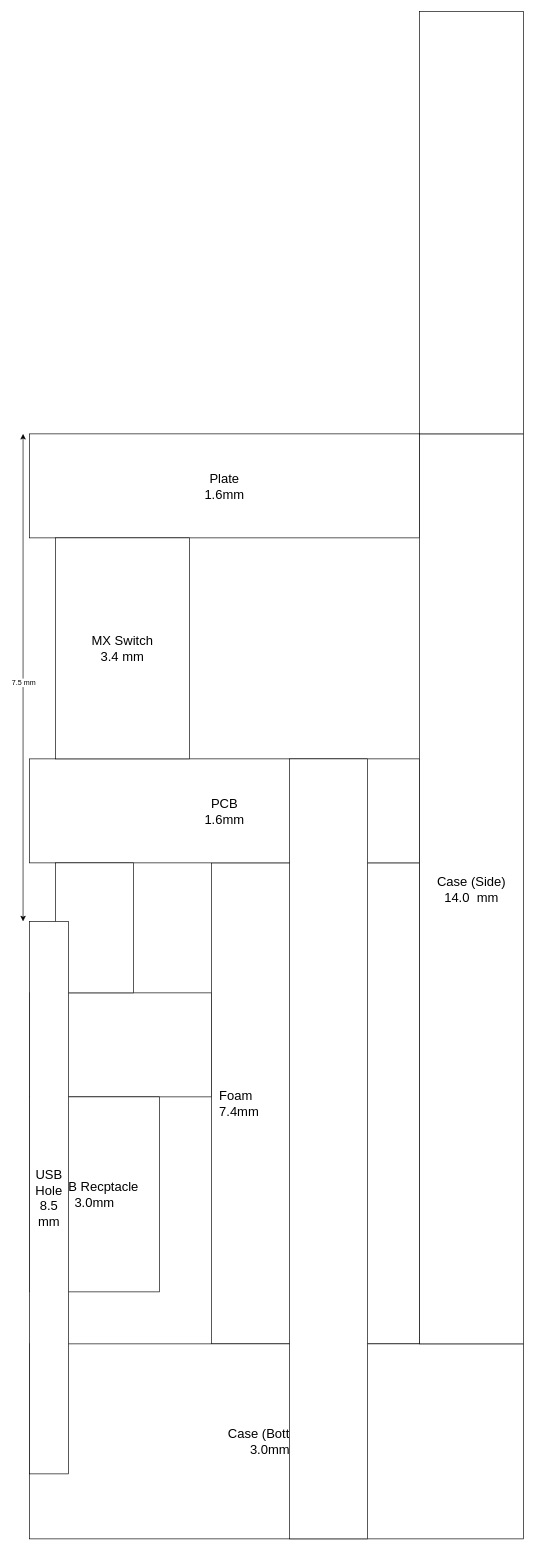
Image size: 535x1550. Some labels were removed from this diagram. Each missing label, with the centre of its shape:
Case (Side, extended) 6.5 mm: point 471,222
MCU PCB 1.6mm: point 120,1044
Pin Header 2.0mm: point 94,927
Spacer 12.0 mm: point 328,1148
